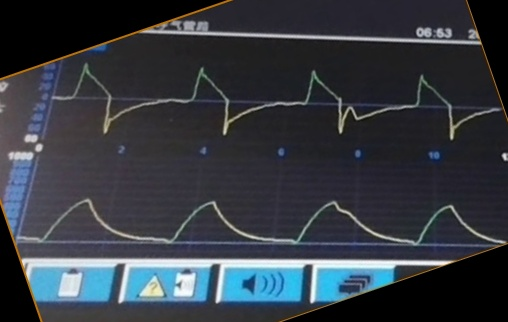Premature_cycling Flow: (68, 58, 487, 143)
Premature_cycling Volume: (34, 178, 481, 251)
